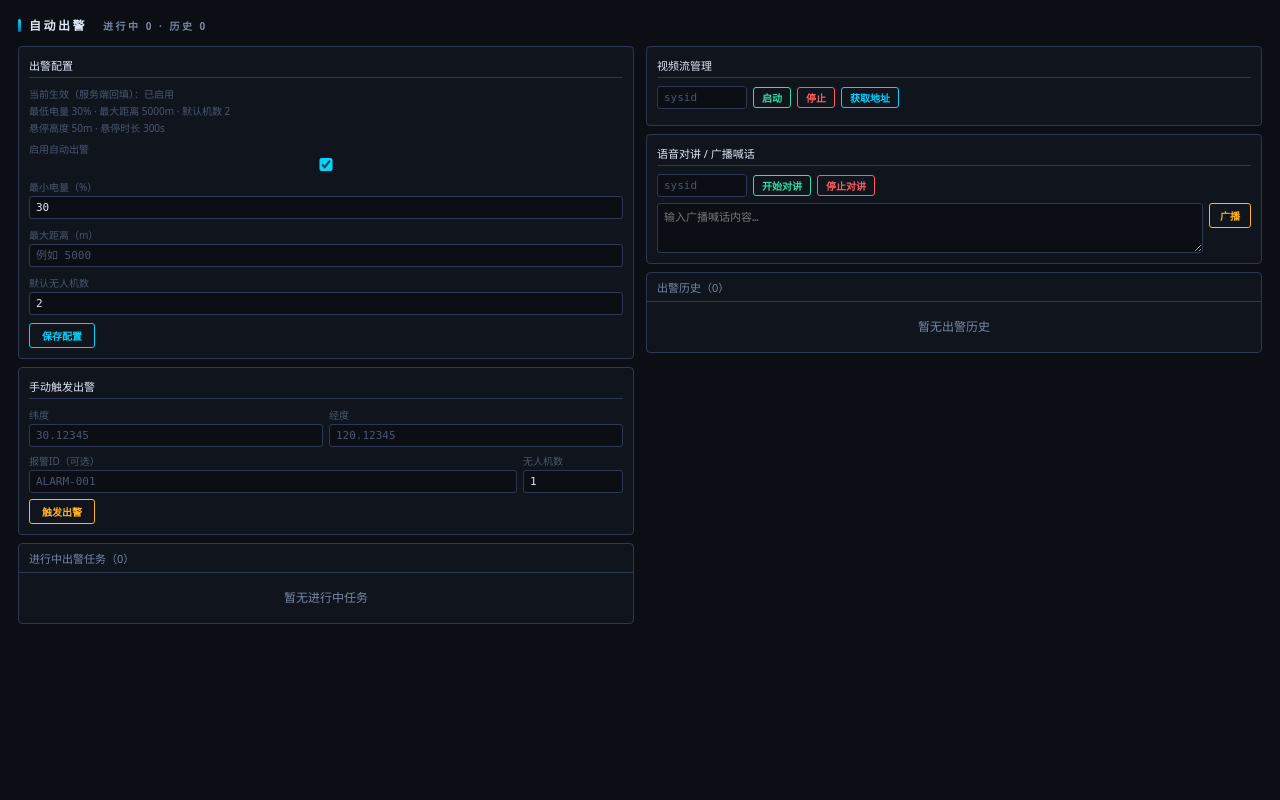
Test: AutoDispatchPanel：保存后能看到服务端认了什么 › 保存成功后生效值跟着后端返回值变（决定性判据）
Expected: the text "当前生效（服务端回填）：已启用" is shown, [29, 87, 174, 101]
Click the button "保存配置" at (62, 336), box [29, 323, 95, 348]
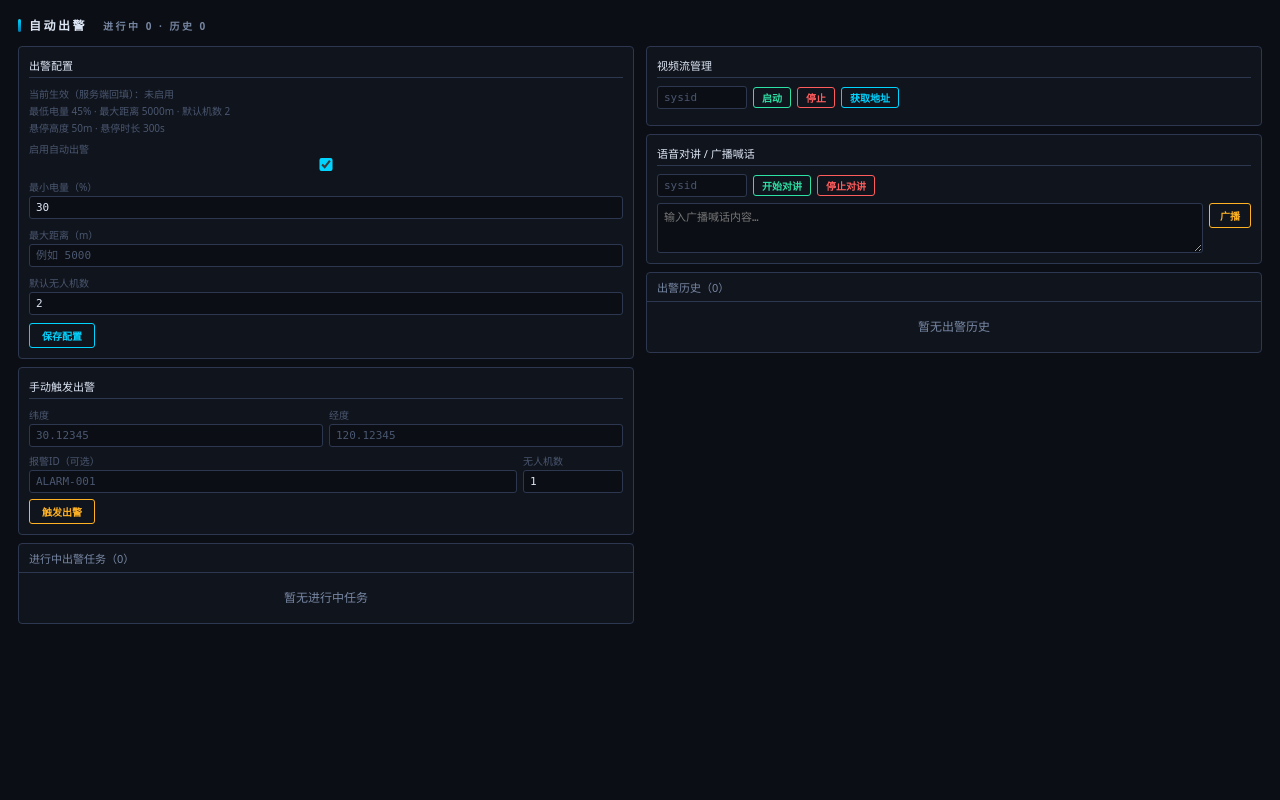
Expected: the text "当前生效（服务端回填）：未启用" is shown, [29, 87, 174, 101]
Expected: the text "最低电量 45% · 最大距离 5000m · 默认机数 2" is shown, [29, 104, 230, 118]
Expected: the text "最低电量 30%" is gone
